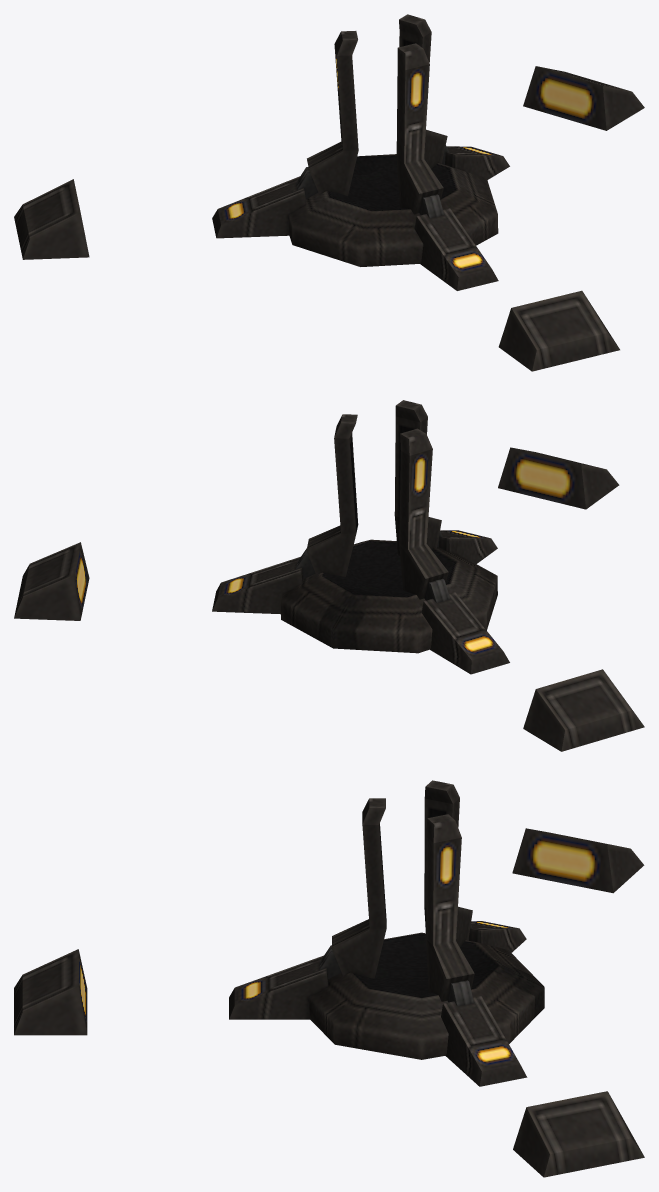
The model's file is dm_ctf_flag_base.FBX.
3 views of the same model, one above another, from view 1: azimuth 30°, elevation 25°; view 2: azimuth 150°, elevation 25°; view 3: azimuth 270°, elevation 25° (orthographic). The views are drawn at different scales.
Visible parts, largest first — view 1: Base; view 2: Base; view 3: Base.
Boxes of the visible parts, x1=… form: Base: x1=14, y1=14, x2=644, y2=371; Base: x1=14, y1=400, x2=644, y2=751; Base: x1=14, y1=780, x2=644, y2=1177.
Bounding box in the file's own units: 2.85 × 0.8352 × 2.29.
